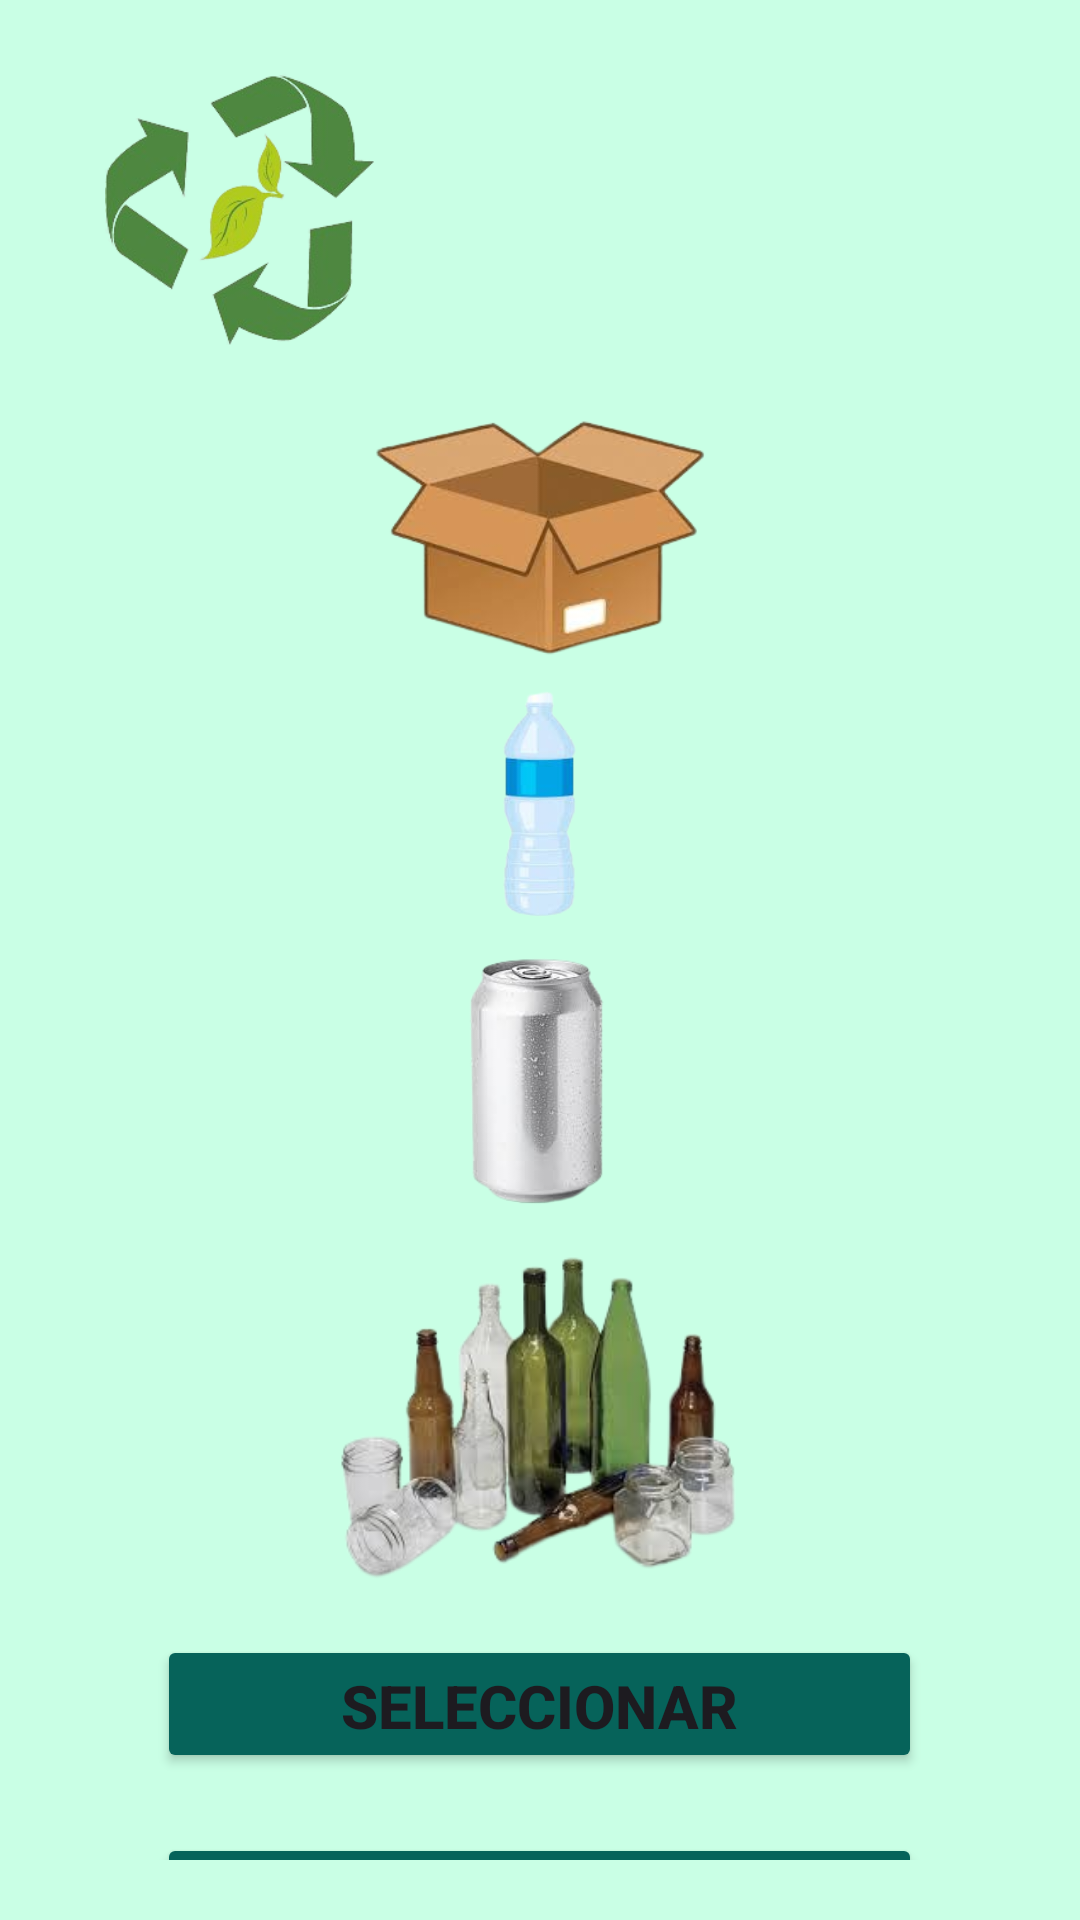

Icons on this 1080*1920 Android screen, each with the point to tap as (x=x, y=y):
botella: (x=539, y=804)
caja: (x=540, y=537)
lata: (x=537, y=1081)
recicla: (x=239, y=210)
